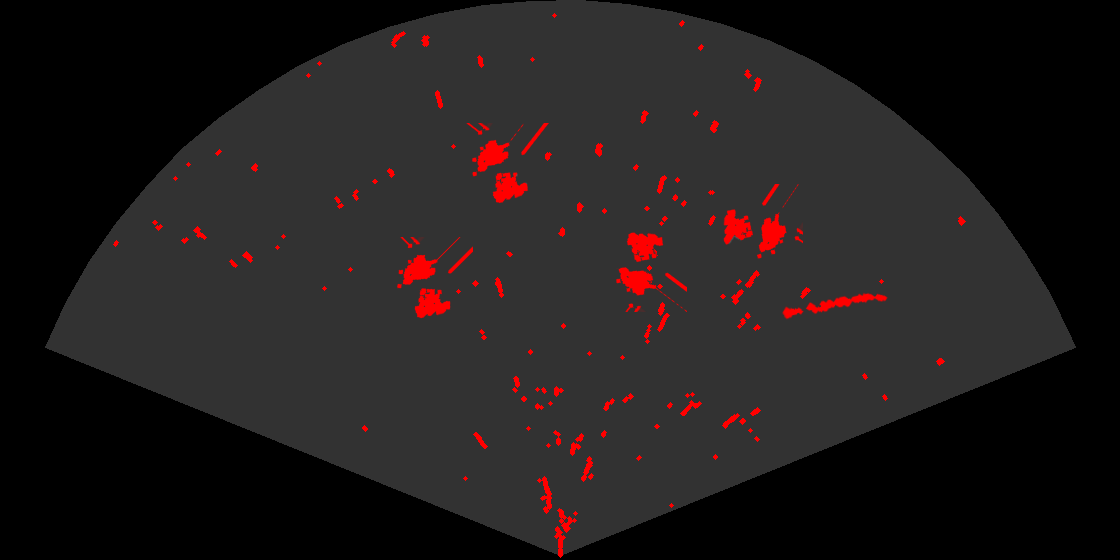cage: (465, 123, 549, 205), (395, 237, 473, 320), (722, 184, 803, 260), (615, 231, 687, 312)
chain: (780, 291, 889, 321)
